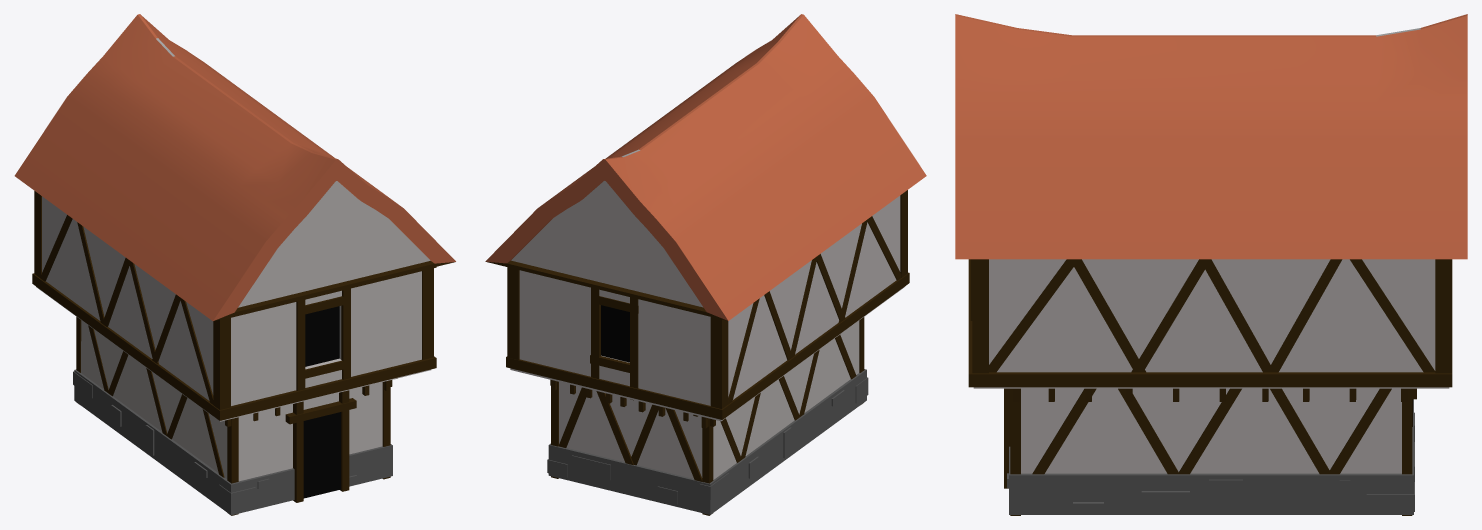
File: MaisonMédiéval.fbx
3 views of the same model, side by side, from view 1: azimuth 30°, elevation 25°; view 2: azimuth 150°, elevation 25°; view 3: azimuth 270°, elevation 25° (orthographic). The views are drawn at different scales.
Parts seen in each view (by area): view 1: pCube116; view 2: pCube116; view 3: pCube116.
Part boxes in pixels (x1,y1,x2,y2): pCube116: (14, 14, 455, 515); pCube116: (485, 14, 926, 515); pCube116: (955, 14, 1467, 515).
Size of the model in its own units: 11.75 by 16.23 by 16.59.
